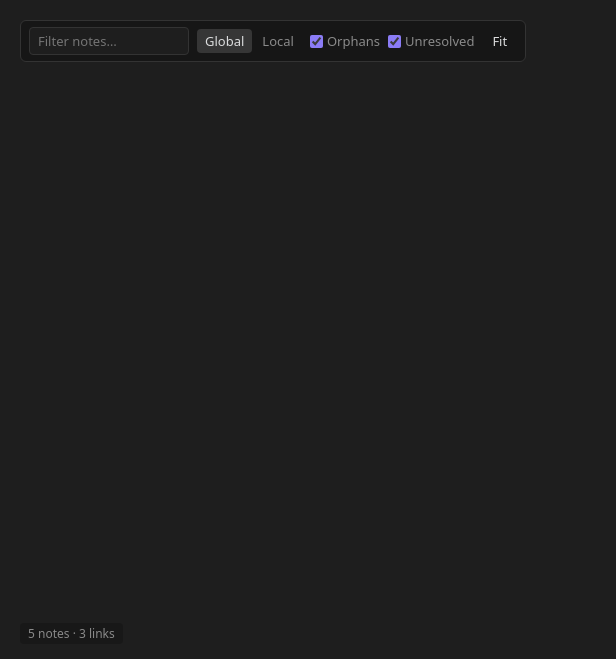
Test: GraphView › offers a local graph around the current note with adjustable depth
The width and height of the screenshot is (616, 659).
Expected: the text with test id "graph-status" reads "5 notes · 3 links", x1=28 y1=625 x2=115 y2=642
Click the button "Local" at {"x": 278, "y": 41}, box x1=254 y1=29 x2=302 y2=53
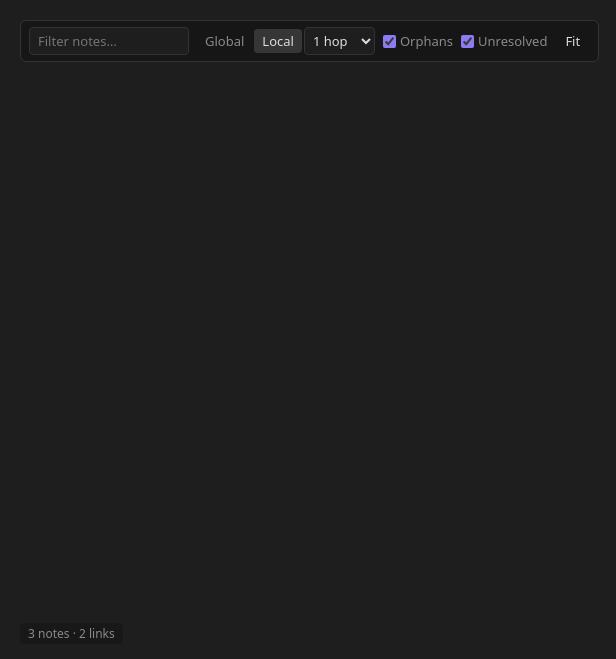
Expected: the text with test id "graph-status" reads "3 notes · 2 links", x1=28 y1=625 x2=115 y2=642
Select "2 hops" in the dropdown named "Local graph depth" at {"x": 339, "y": 41}, box x1=304 y1=27 x2=375 y2=55
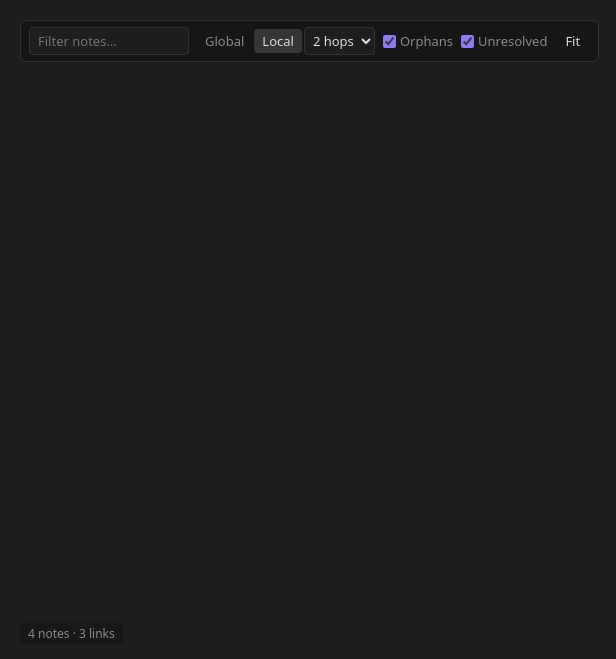
Expected: the text with test id "graph-status" reads "4 notes · 3 links", x1=28 y1=625 x2=115 y2=642
Click the button "Global" at {"x": 225, "y": 41}, box x1=197 y1=29 x2=252 y2=53
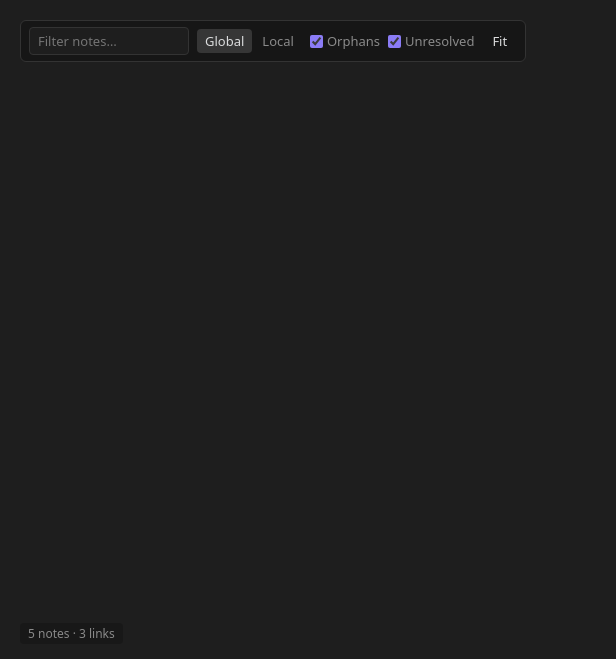
Expected: the text with test id "graph-status" reads "5 notes · 3 links", x1=28 y1=625 x2=115 y2=642
